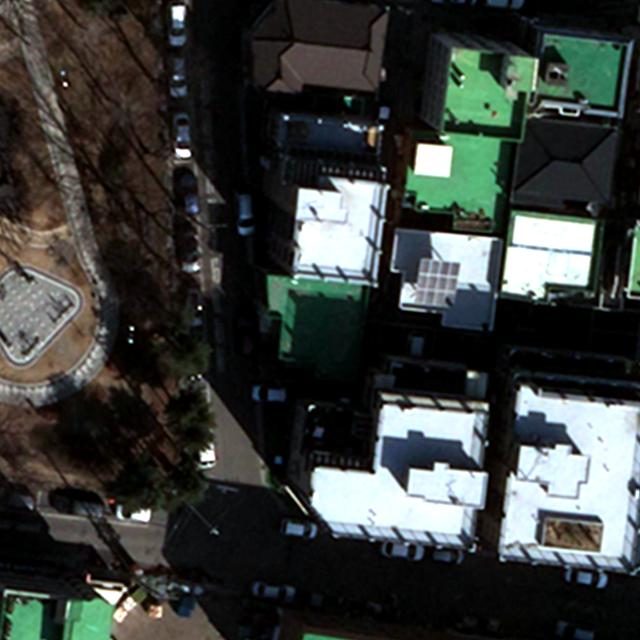panel: (415, 257, 459, 312)
